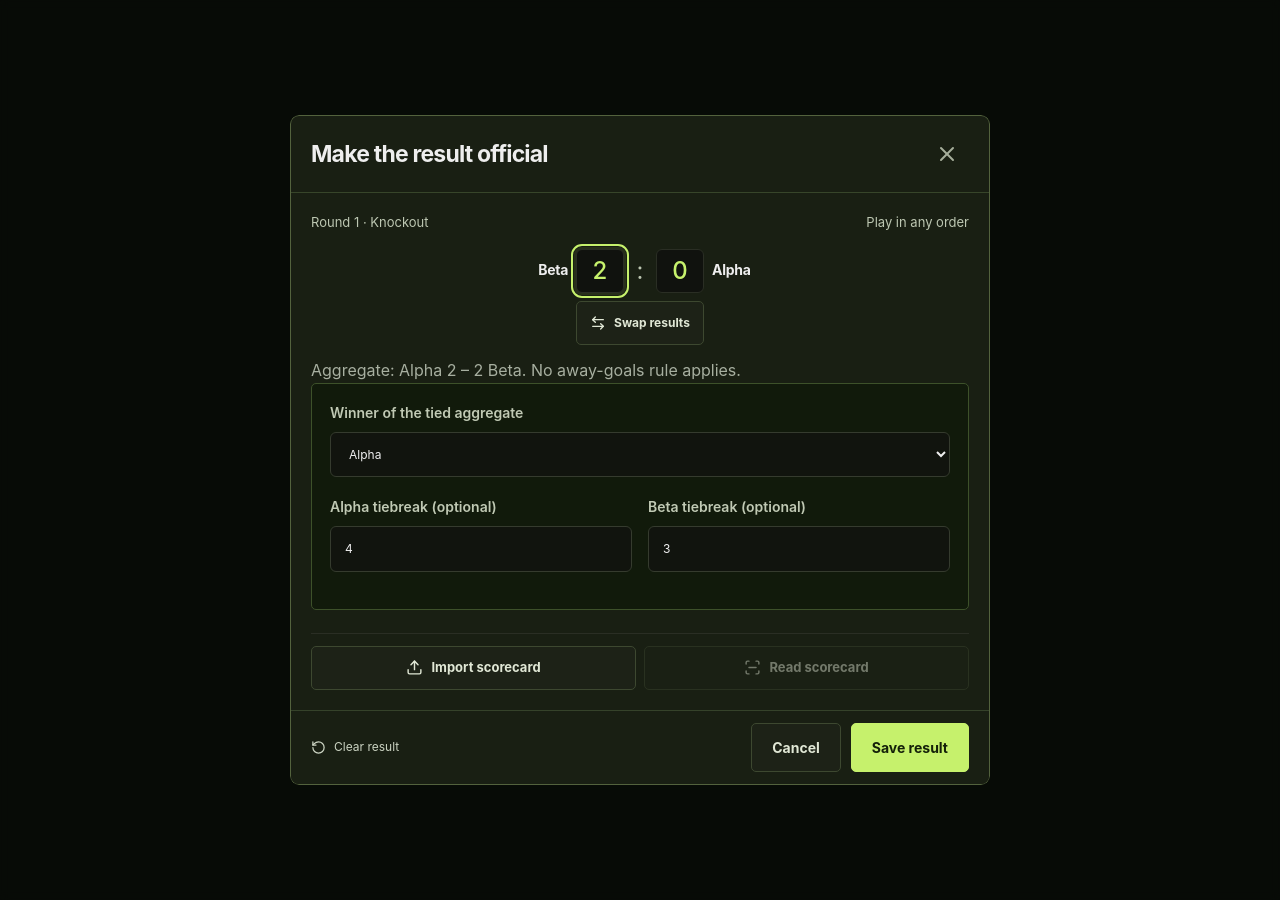
editing either score clears a saved aggregate decision before it can be reused
The image size is (1280, 900).
Expected: the dropdown labelled "Winner of the tied aggregate" shows "Alpha", top-left (330, 432), bottom-right (950, 477)
Clear the 2nd number field named "Alpha score" at (680, 270), box top-left (656, 248), bottom-right (704, 292)
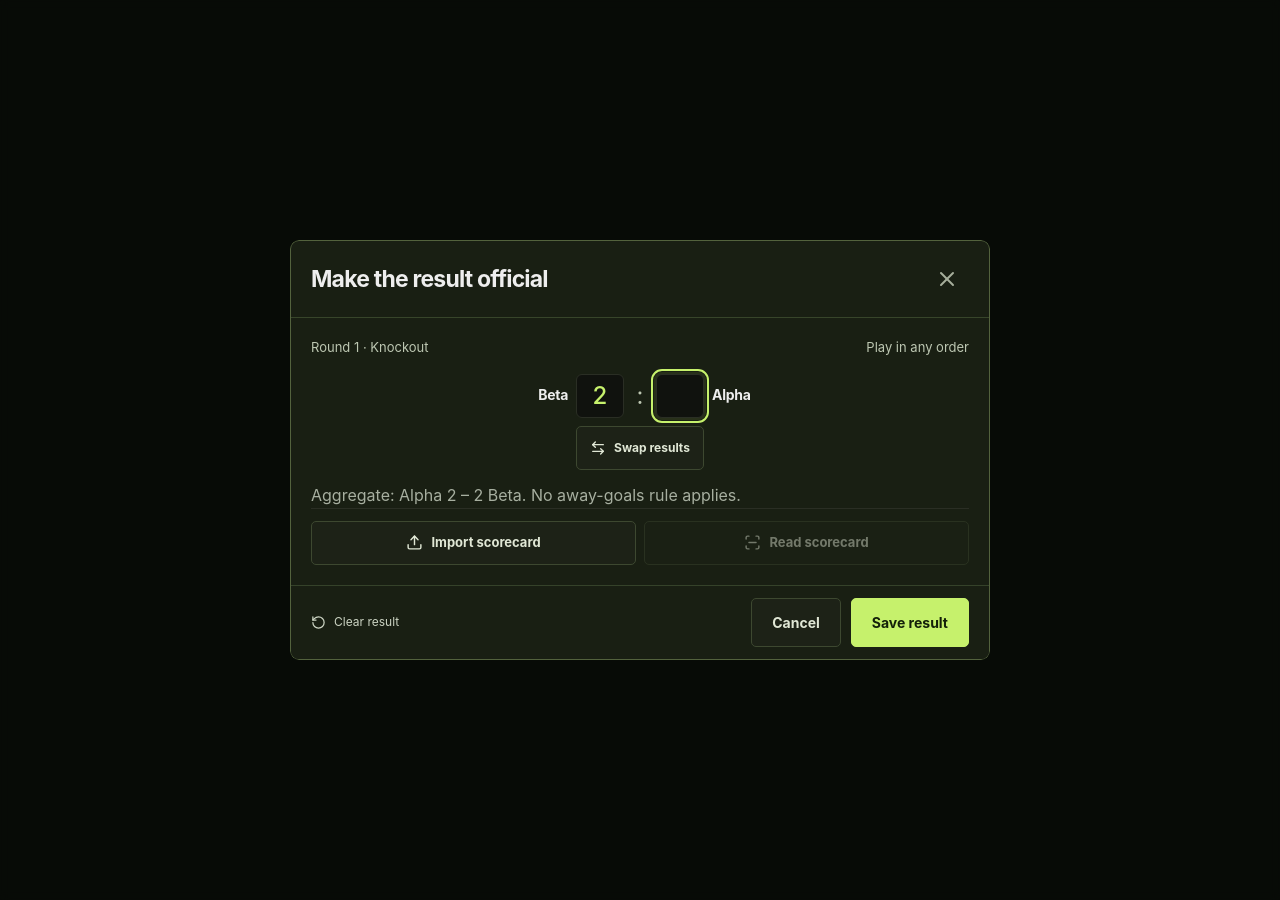
Type "1" into the 2nd number field named "Alpha score" at (680, 396), box top-left (656, 374), bottom-right (704, 418)
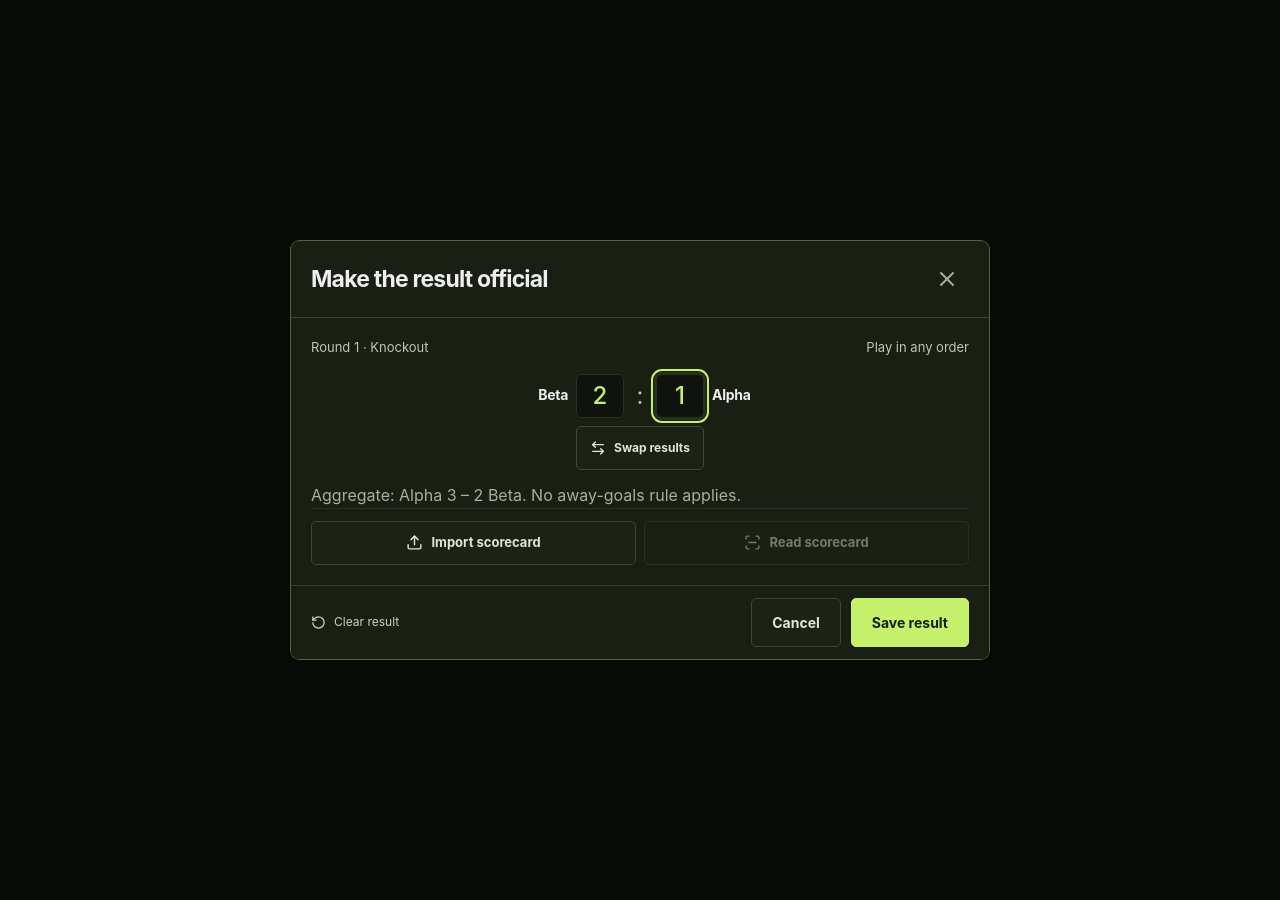
Replace the text in the 1st number field named "Beta score" with "3" at (600, 396), box top-left (576, 374), bottom-right (624, 418)
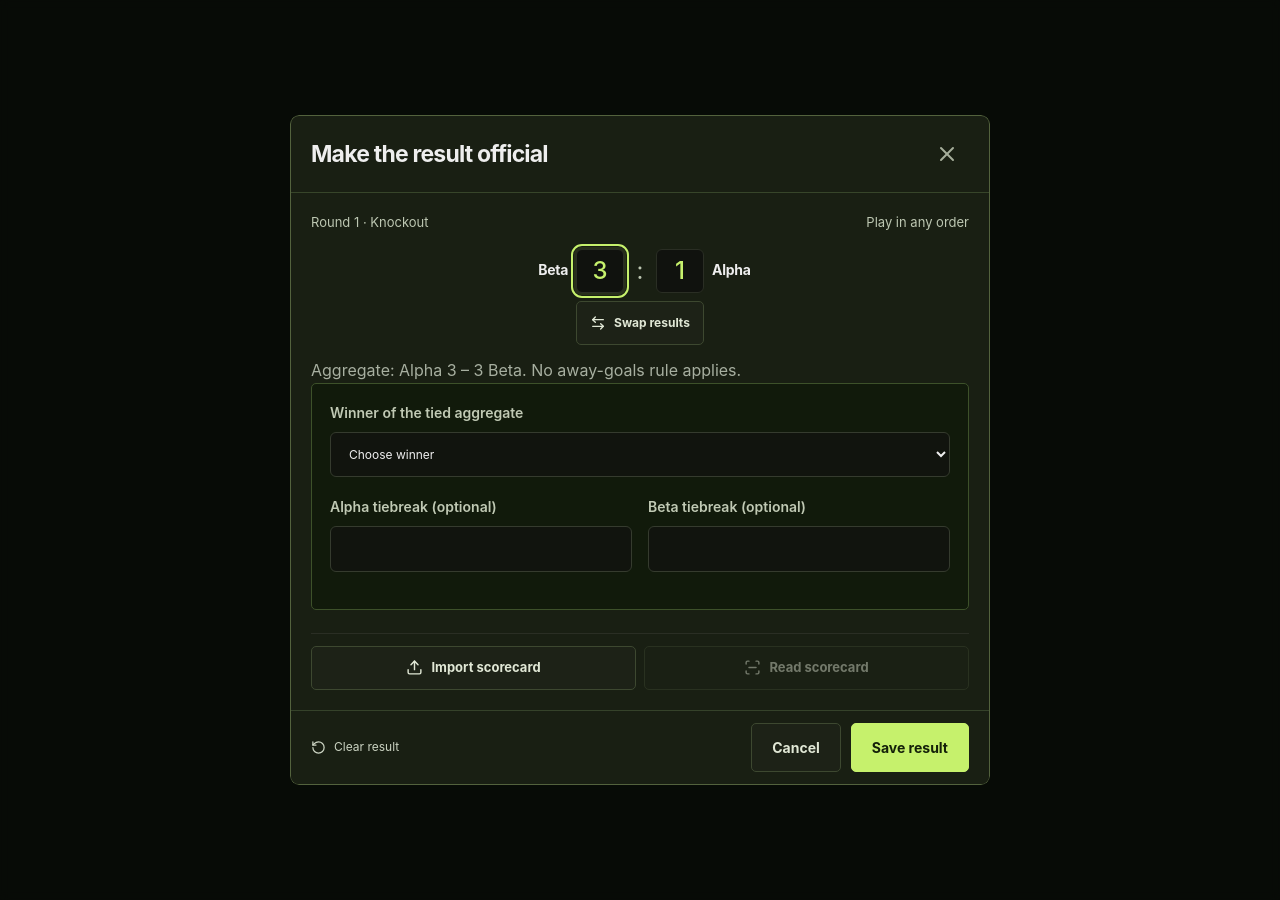
Now the dropdown labelled "Winner of the tied aggregate" shows "Choose winner", box top-left (330, 432), bottom-right (950, 477)
Now the number field labelled "Alpha tiebreak (optional)" is not empty, box top-left (330, 526), bottom-right (632, 572)
